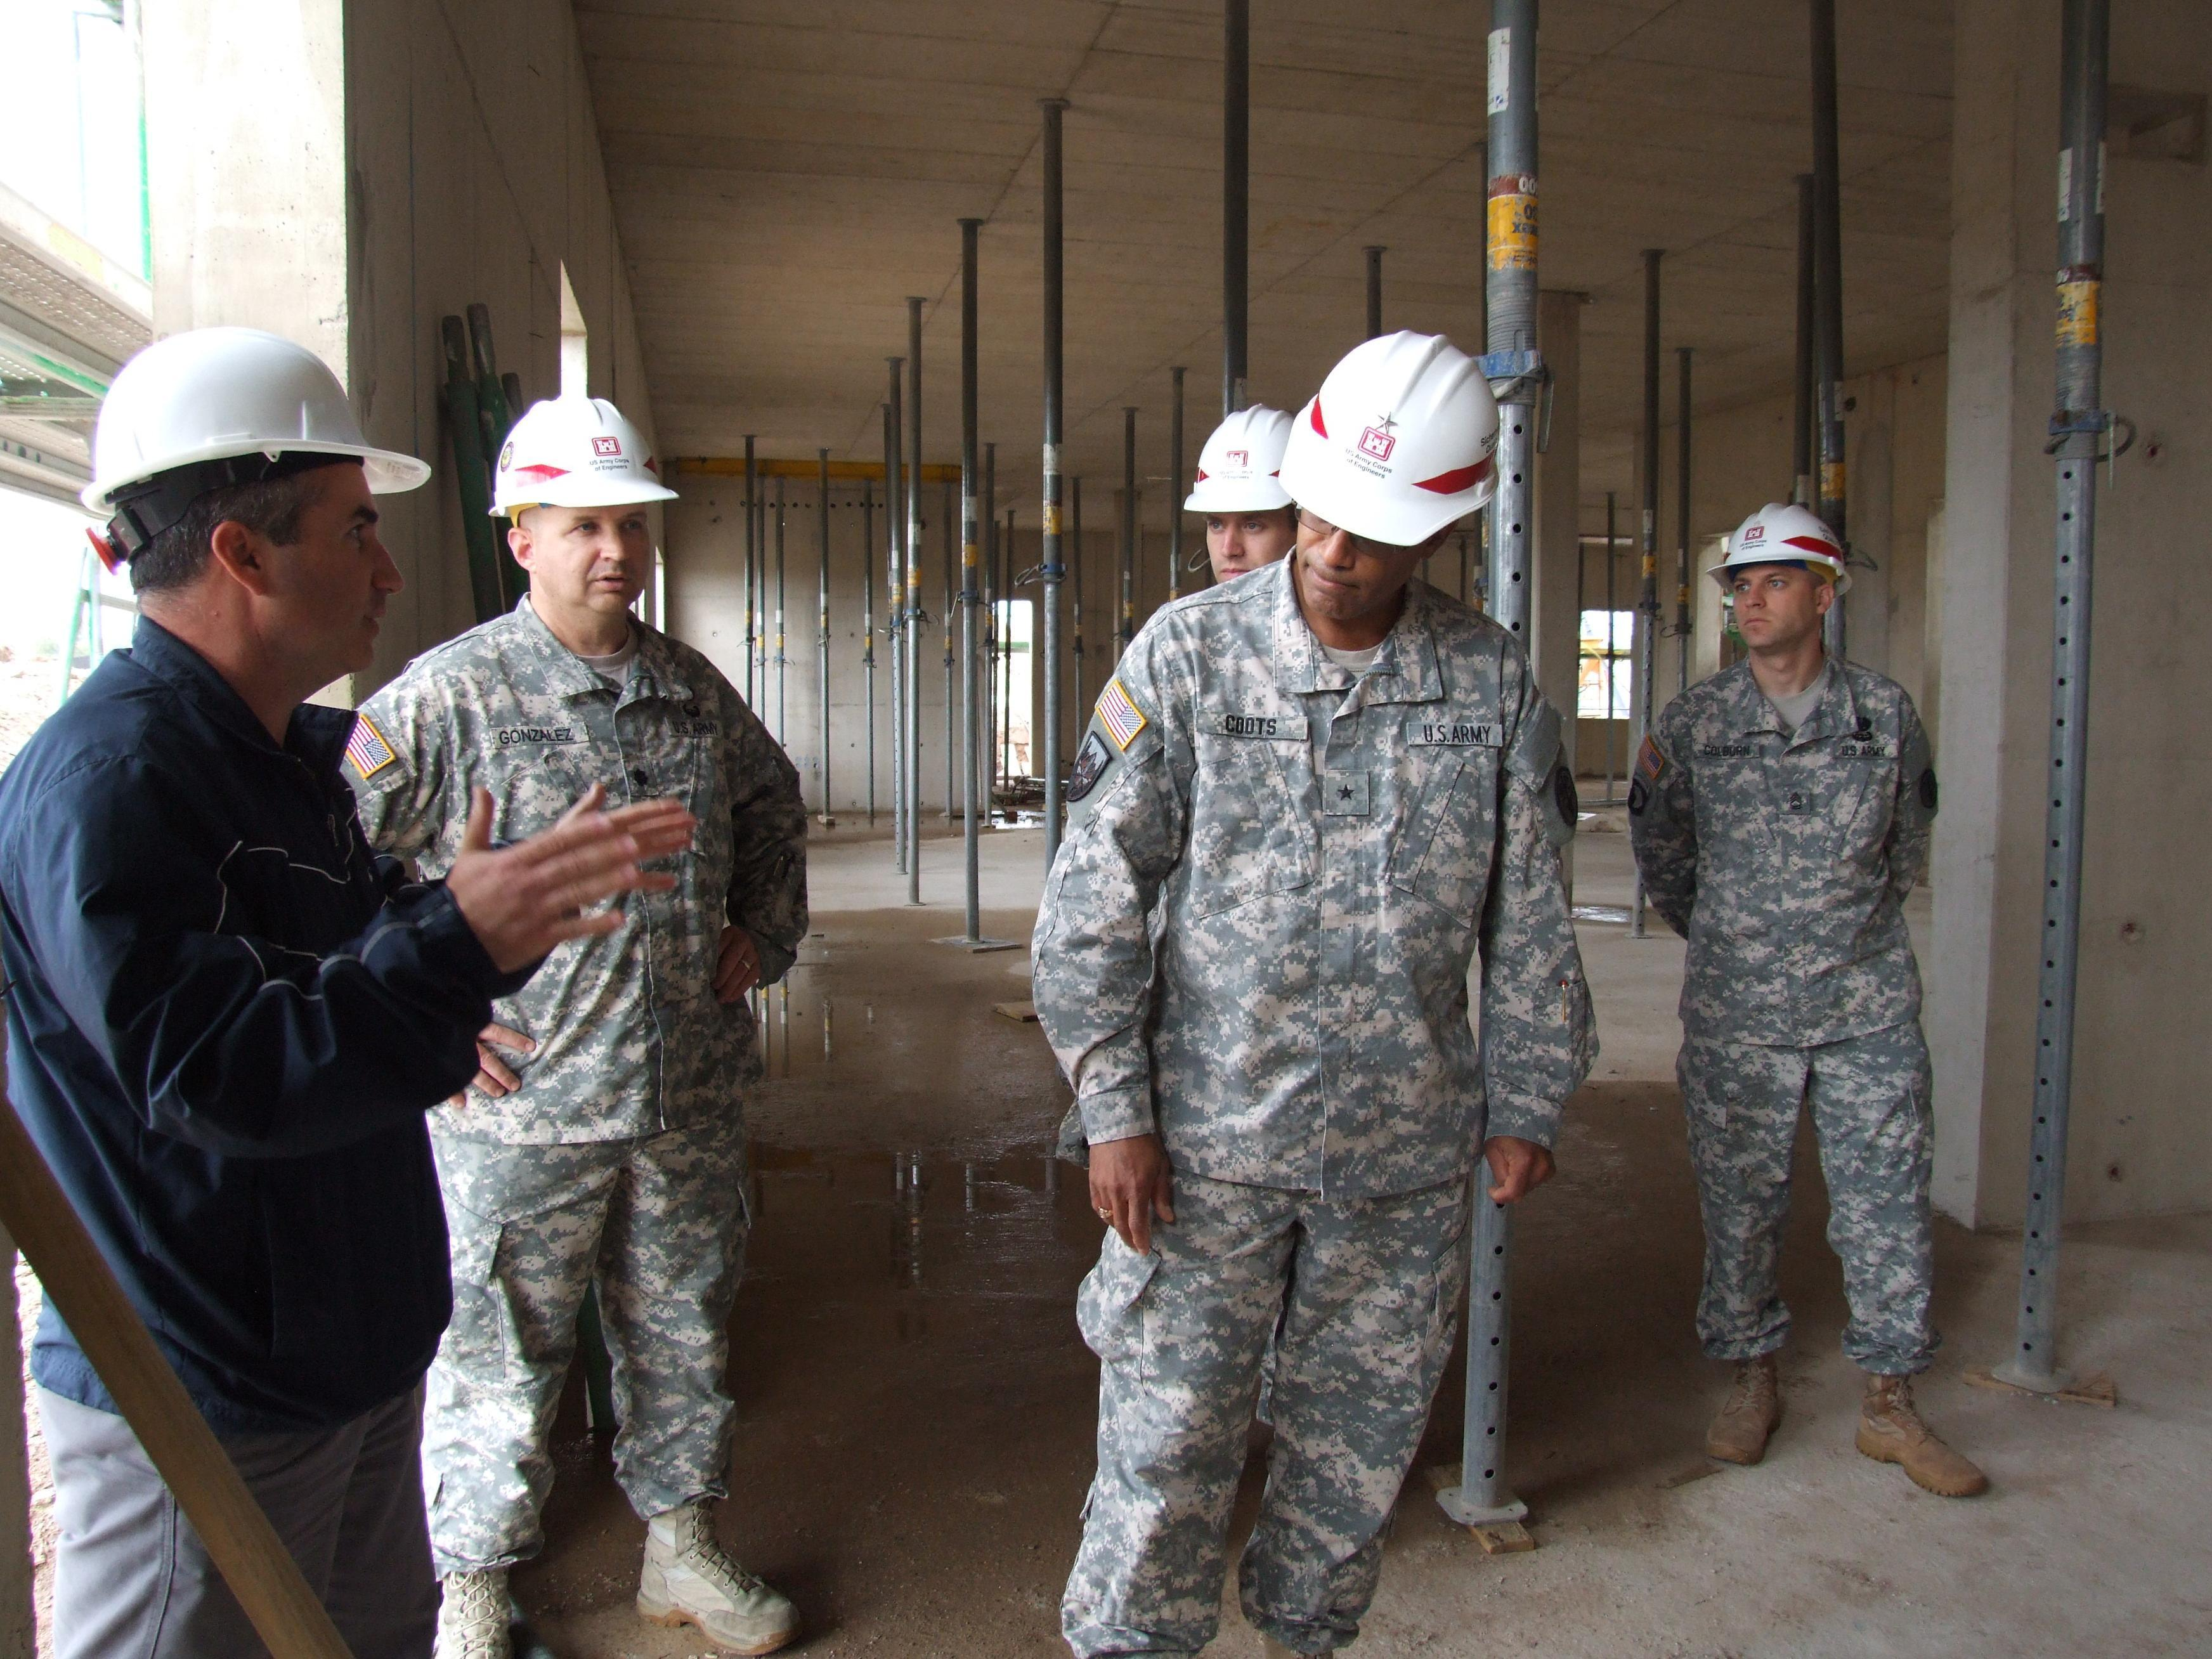Boots: (62, 301, 441, 592), (1272, 320, 1533, 570), (465, 398, 703, 548), (1701, 476, 1864, 608), (1161, 404, 1315, 529)
Ear-protection: (1053, 558, 1580, 1659), (0, 623, 484, 1659), (442, 611, 831, 1659), (1617, 658, 2017, 1517)
